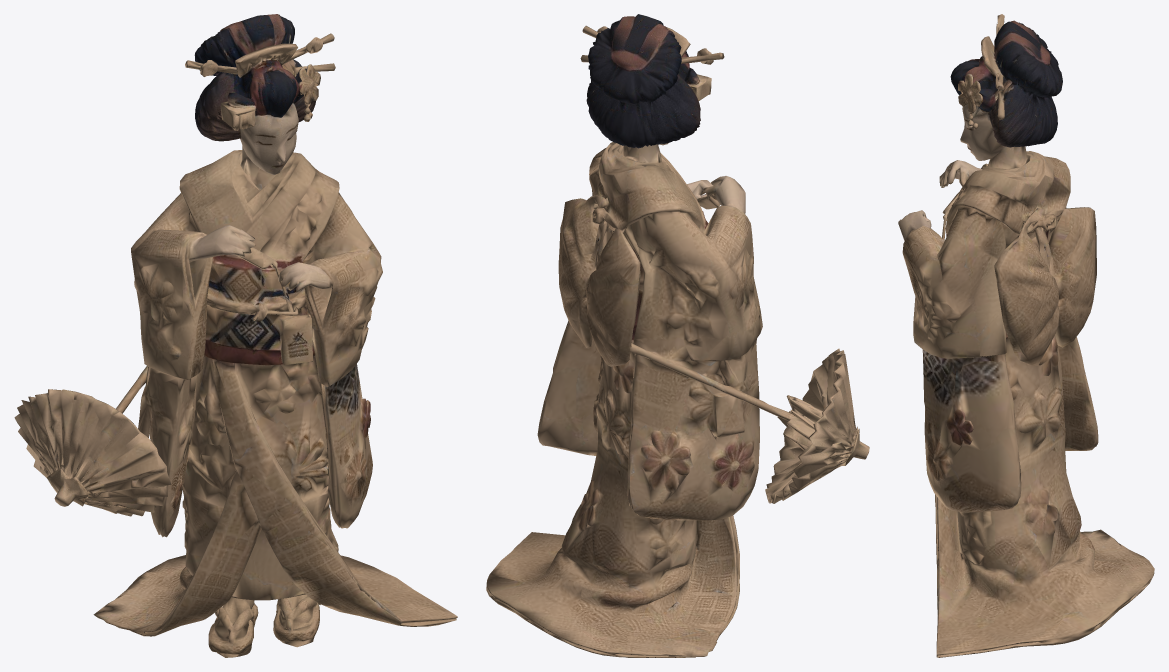
Rendered from geisha.glb.
The picture shows the model from 3 angles, left to right: view 1: azimuth 30°, elevation 25°; view 2: azimuth 150°, elevation 25°; view 3: azimuth 270°, elevation 25°; orthographic projection. The views are drawn at different scales.
Bounding box in the file's own units: 1.21 × 1.9 × 0.7814.
1 material, 1 textured.
